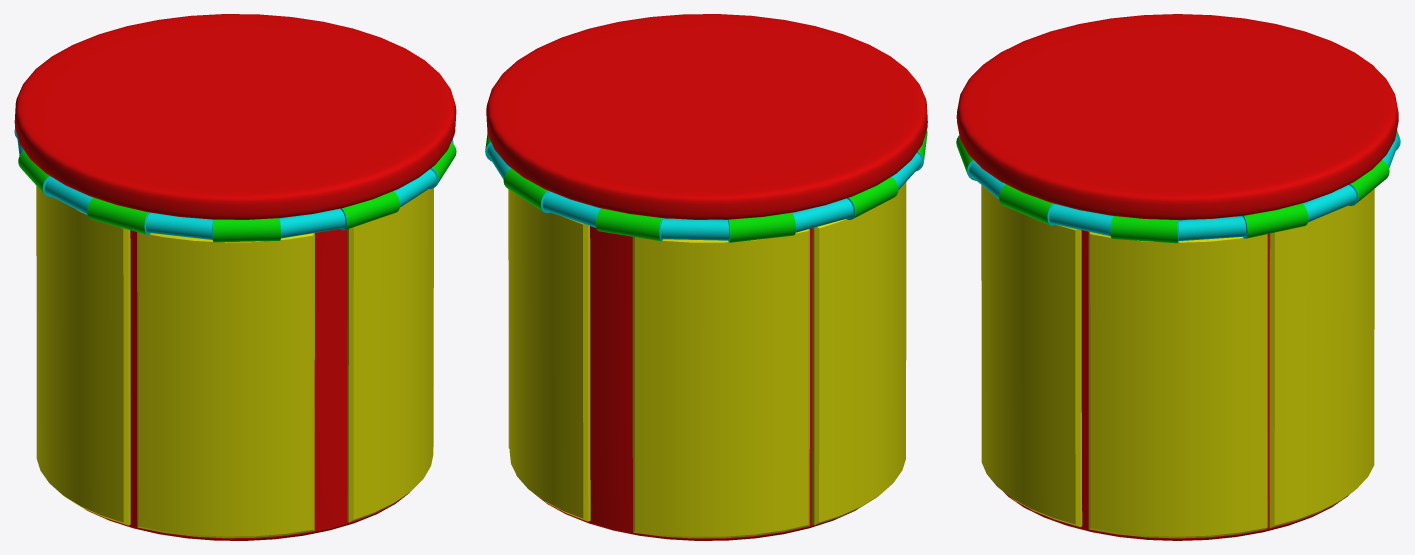
File: Exterior_Tanker.fbx
3 views of the same model, side by side, from view 1: azimuth 30°, elevation 25°; view 2: azimuth 150°, elevation 25°; view 3: azimuth 270°, elevation 25° (orthographic).
Visible parts, largest first — view 1: Exterior_Tanker; view 2: Exterior_Tanker; view 3: Exterior_Tanker.
Part boxes in pixels (x1,y1,x2,y2): Exterior_Tanker: (14,14,456,540); Exterior_Tanker: (485,14,927,540); Exterior_Tanker: (956,14,1400,540).
Size of the model in its own units: 1307 by 1161 by 1307.
